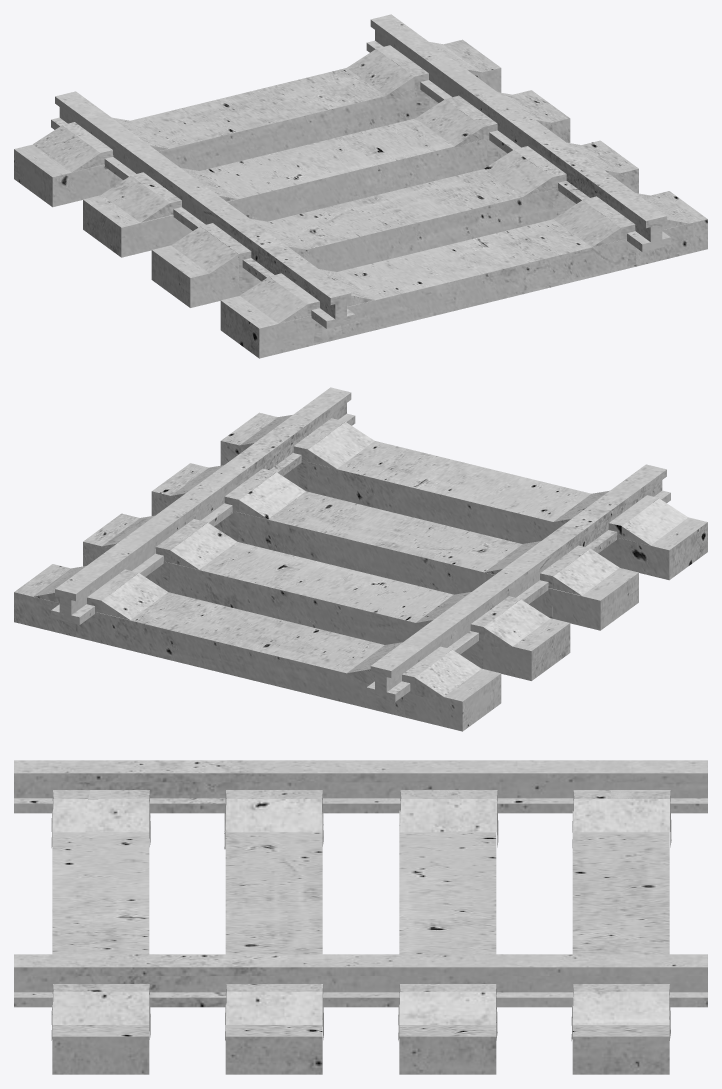
File: track_concrete.obj
3 renders of one model, top to bottom at view 1: azimuth 30°, elevation 25°; view 2: azimuth 150°, elevation 25°; view 3: azimuth 270°, elevation 25°, orthographic. The views are drawn at different scales.
Visible parts, largest first — view 1: track_concrete; view 2: track_concrete; view 3: track_concrete.
Boxes of the visible parts, left/top/right/bottom form: track_concrete: left=14, top=14, right=707, bottom=358; track_concrete: left=14, top=387, right=707, bottom=731; track_concrete: left=14, top=760, right=707, bottom=1074.
Bounding box in the file's own units: 0.94 × 0.1158 × 1.
